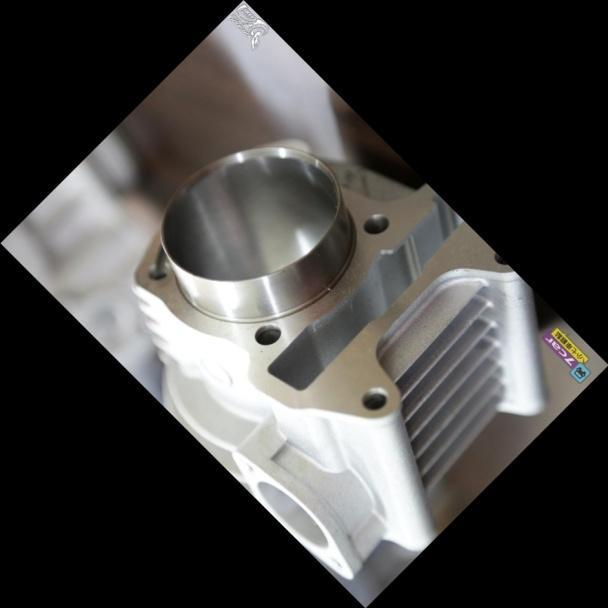hole: (354, 378, 394, 418), (247, 314, 286, 353), (356, 203, 395, 242)
